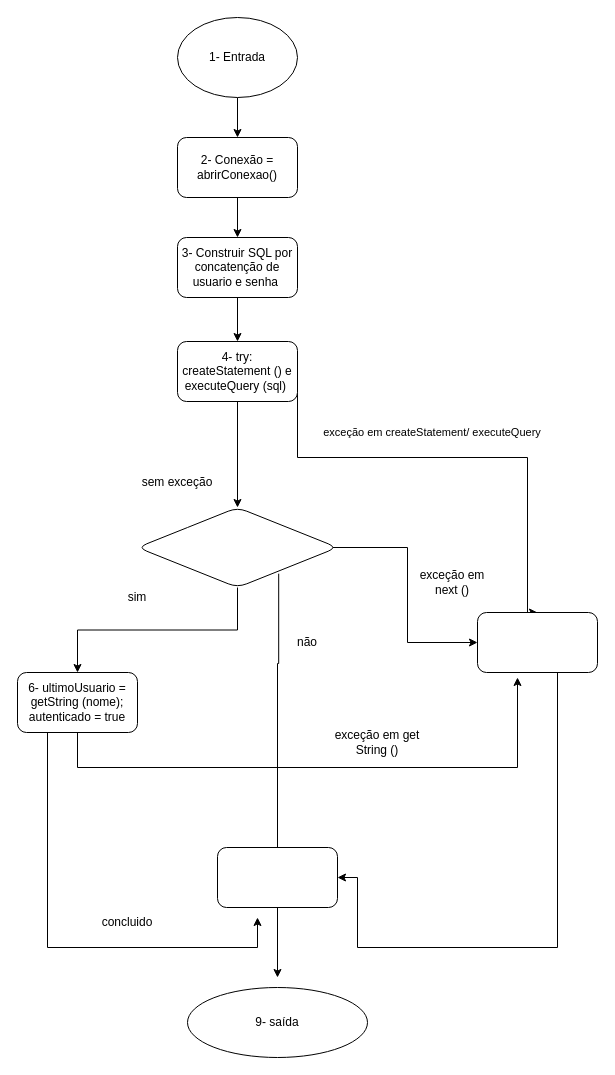
This 615x1075 diagram has some shape labels left out. Here are the shapes that lost their labels. From the top down, the centre of each, then its label:
the point at 237,547: 5- resultado.next () ?
the point at 537,642: 7- catch (Exception) e erro ignorado
the point at 277,877: 8- return autenticado
